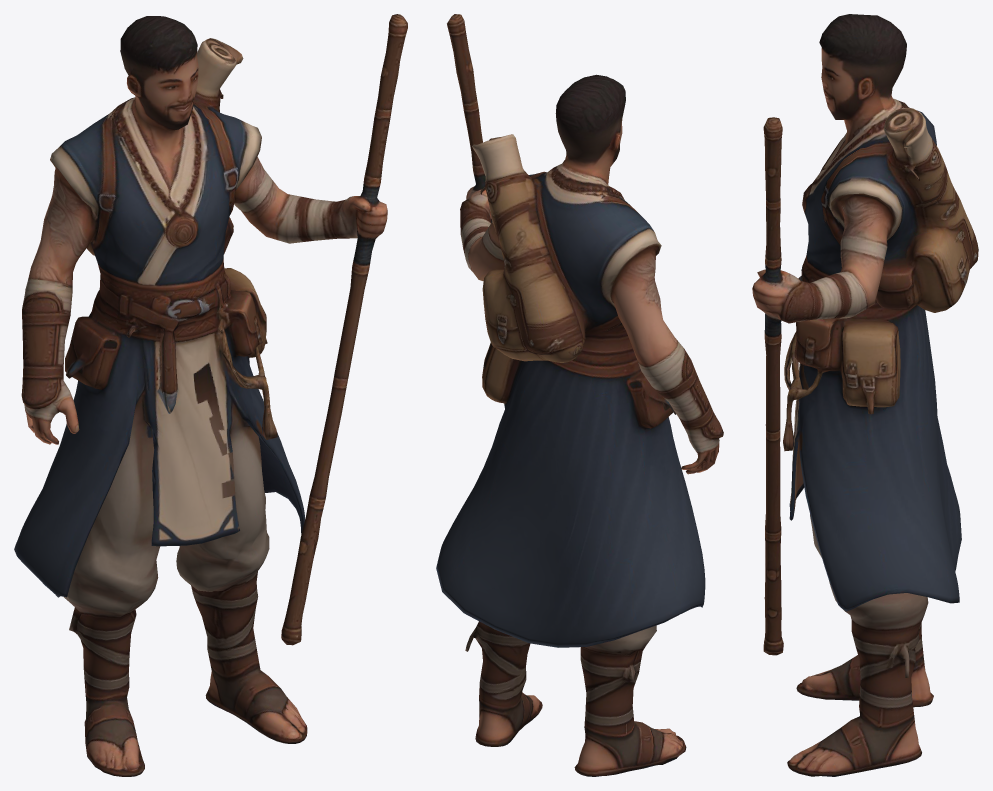
Rendered from Monge.glb.
The picture shows the model from 3 angles, left to right: view 1: azimuth 30°, elevation 25°; view 2: azimuth 150°, elevation 25°; view 3: azimuth 270°, elevation 25°; orthographic projection. The views are drawn at different scales.
Parts seen in each view (by area): view 1: tripo_node_a74ace86-7ce1-4d02-9a2b-f2d2b9ff269e; view 2: tripo_node_a74ace86-7ce1-4d02-9a2b-f2d2b9ff269e; view 3: tripo_node_a74ace86-7ce1-4d02-9a2b-f2d2b9ff269e.
Part boxes in pixels (x1,y1,x2,y2): tripo_node_a74ace86-7ce1-4d02-9a2b-f2d2b9ff269e: [14, 14, 407, 776]; tripo_node_a74ace86-7ce1-4d02-9a2b-f2d2b9ff269e: [436, 14, 723, 776]; tripo_node_a74ace86-7ce1-4d02-9a2b-f2d2b9ff269e: [752, 14, 978, 776].
Size of the model in its own units: 0.4869 by 0.9919 by 0.29.
1 material, 1 textured.
